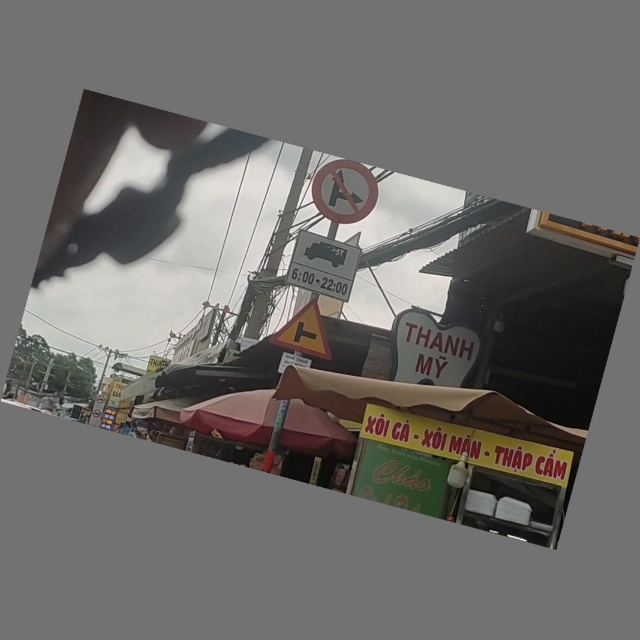P.139: (306, 155, 383, 230)
S.505a*Xe tai: (286, 231, 363, 301)
W.205b: (267, 293, 345, 360)
